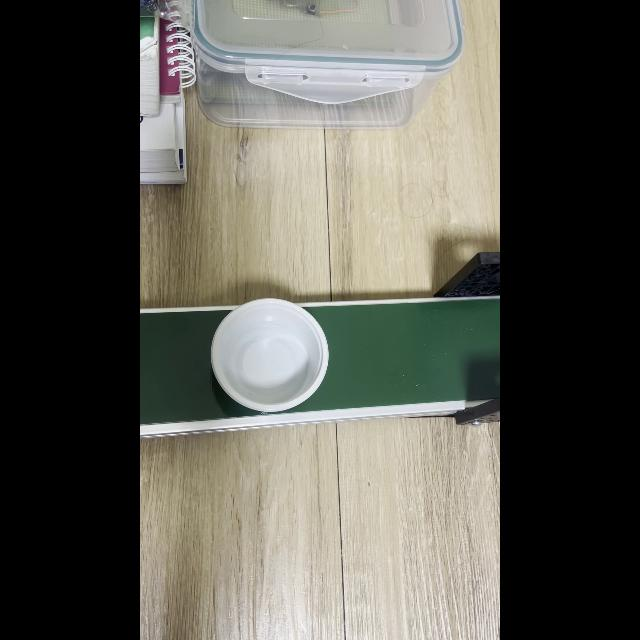clean: (210, 298, 328, 412)
